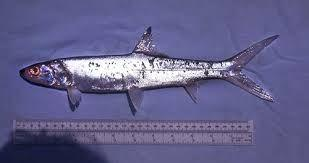Tenpounder: (21, 27, 282, 115)
